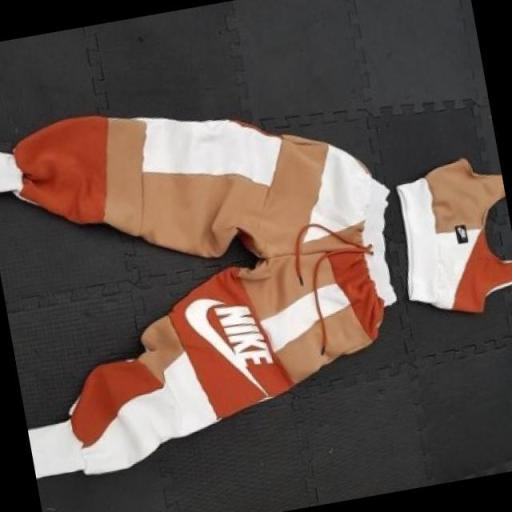Nike: (182, 295, 242, 384), (210, 298, 272, 372)
